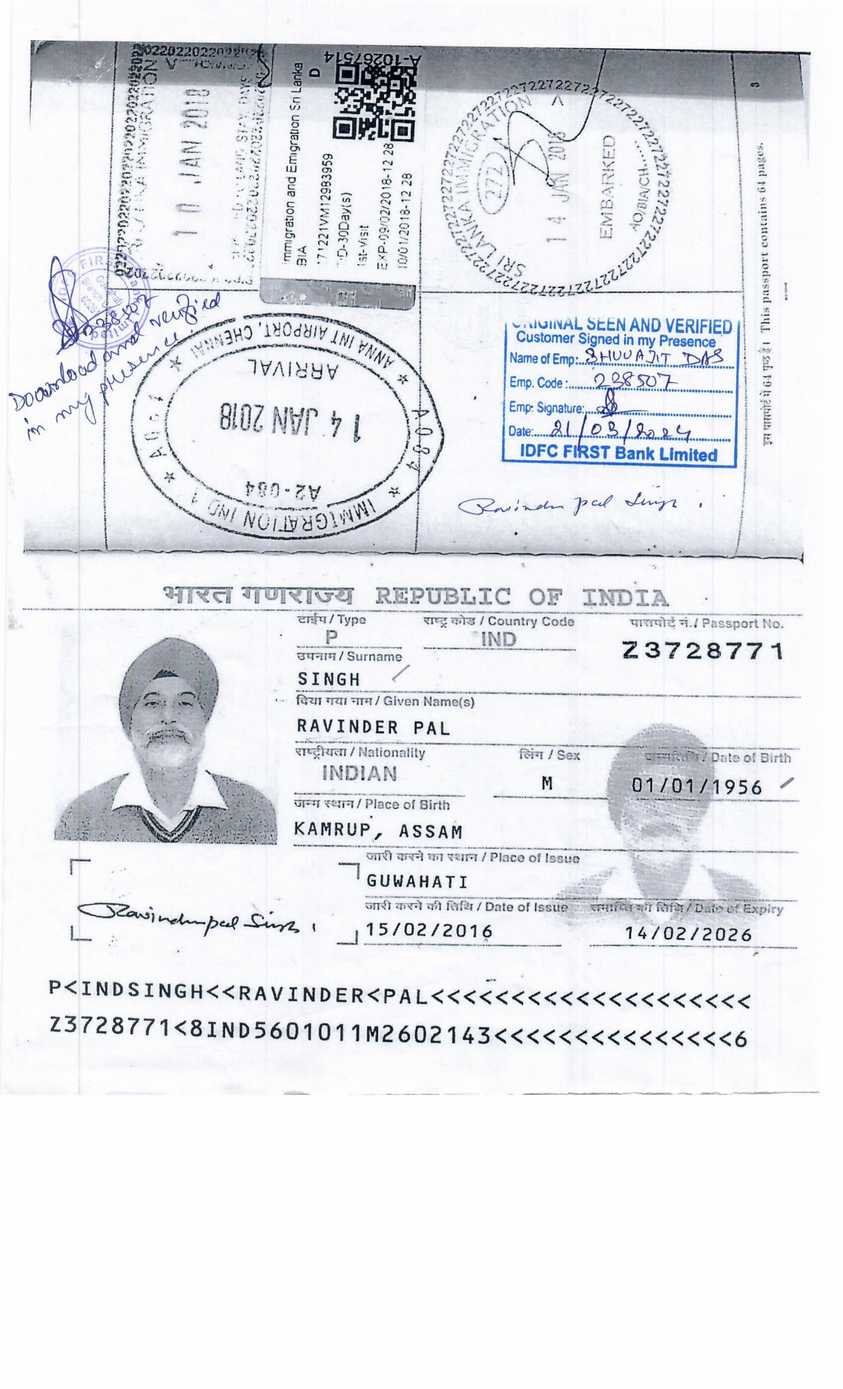DOB: (619, 766, 790, 802)
Surname: (293, 665, 371, 694)
country_code: (470, 628, 525, 655)
date_of_expiry: (610, 914, 764, 950)
date_of_issue: (360, 913, 505, 955)
details: (40, 967, 764, 1052)
name: (281, 713, 479, 743)
nationality: (304, 757, 413, 792)
passport_no: (608, 631, 791, 669)
photo: (68, 636, 281, 839)
place_of_birth: (289, 814, 483, 850)
place_of_issue: (366, 868, 483, 896)
sex: (521, 761, 574, 798)
sign: (78, 887, 325, 953)
type: (307, 624, 355, 652)
